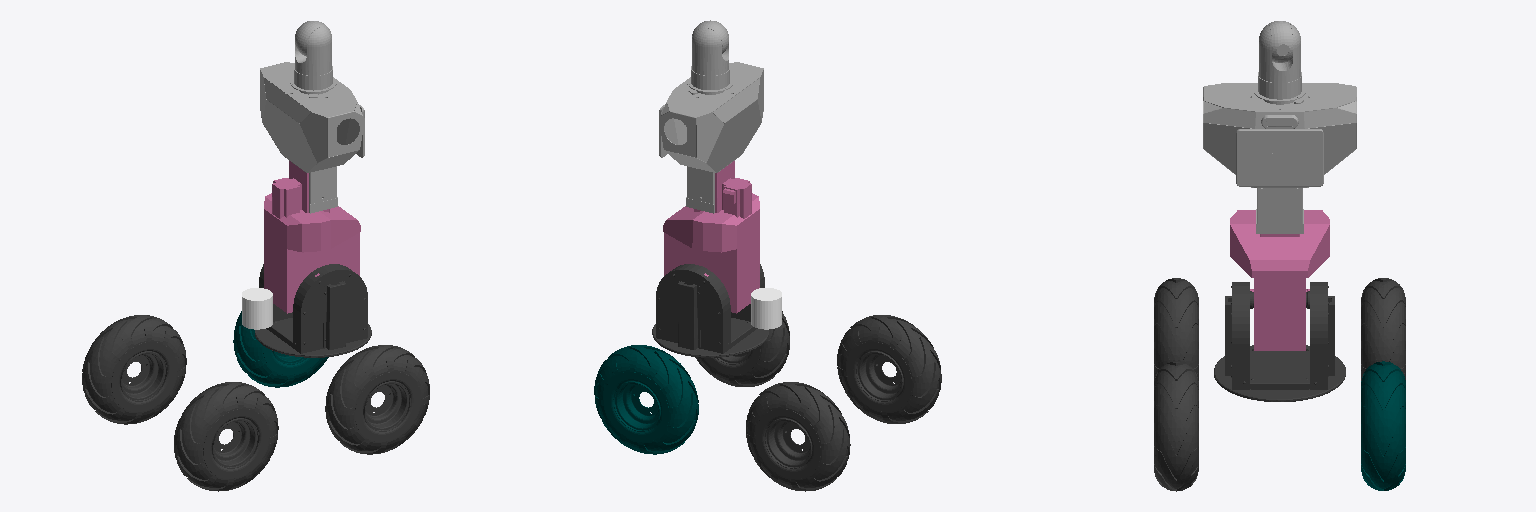
URDF robot description (bulldog_description):
<?xml version="1.0" encoding="utf-8"?>
<!-- This URDF was automatically created by SolidWorks to URDF Exporter! Originally created by [author] ([email redacted]) 
     Commit Version: 1.5.1-0-g916b5db  Build Version: 1.5.7152.31018
     For more information, please see http://wiki.ros.org/sw_urdf_exporter -->
<robot
  name="bulldog_description">
  <link
    name="base_link">
    <inertial>
      <origin
        xyz="-0.00018126 -0.00018572 0.11856"
        rpy="0 0 0" />
      <mass
        value="39.249" />
      <inertia
        ixx="1.6406"
        ixy="-0.0037148"
        ixz="-0.0086134"
        iyy="2.5997"
        iyz="0.0010712"
        izz="3.4136" />
    </inertial>
    <visual>
      <origin
        xyz="0 0 0"
        rpy="0 0 0" />
      <geometry>
        <mesh
          filename="package://bulldog_description/meshes/base_link.STL" />
      </geometry>
      <material
        name="">
        <color
          rgba="0 0 0 1" />
      </material>
    </visual>
    <collision>
      <origin
        xyz="0 0 0"
        rpy="0 0 0" />
      <geometry>
        <mesh
          filename="package://bulldog_description/meshes/base_link.STL" />
      </geometry>
    </collision>
  </link>
  <link
    name="wheel_link1">
    <inertial>
      <origin
        xyz="2.0959E-10 -1.1018E-07 1.4719E-10"
        rpy="0 0 0" />
      <mass
        value="10.51" />
      <inertia
        ixx="0.0988"
        ixy="9.934E-11"
        ixz="-1.5334E-10"
        iyy="0.17606"
        iyz="7.4803E-11"
        izz="0.0988" />
    </inertial>
    <visual>
      <origin
        xyz="0 0 0"
        rpy="0 0 0" />
      <geometry>
        <mesh
          filename="package://bulldog_description/meshes/wheel_link1.STL" />
      </geometry>
      <material
        name="">
        <color
          rgba="0 0.29804 0.29804 1" />
      </material>
    </visual>
    <collision>
      <origin
        xyz="0 0 0"
        rpy="0 0 0" />
      <geometry>
        <mesh
          filename="package://bulldog_description/meshes/wheel_link1.STL" />
      </geometry>
    </collision>
  </link>
  <joint
    name="wheel_joint1"
    type="continuous">
    <origin
      xyz="0.2775 0.2905 0.048"
      rpy="0 0 -3.1416" />
    <parent
      link="base_link" />
    <child
      link="wheel_link1" />
    <axis
      xyz="0 -1 0" />
  </joint>
  <link
    name="wheel_link2">
    <inertial>
      <origin
        xyz="2.6641E-11 -9.3596E-08 -2.5472E-10"
        rpy="0 0 0" />
      <mass
        value="10.51" />
      <inertia
        ixx="0.0988"
        ixy="1.7028E-11"
        ixz="2.9866E-11"
        iyy="0.17607"
        iyz="-1.2318E-10"
        izz="0.0988" />
    </inertial>
    <visual>
      <origin
        xyz="0 0 0"
        rpy="0 0 0" />
      <geometry>
        <mesh
          filename="package://bulldog_description/meshes/wheel_link2.STL" />
      </geometry>
      <material
        name="">
        <color
          rgba="0.29804 0.29804 0.29804 1" />
      </material>
    </visual>
    <collision>
      <origin
        xyz="0 0 0"
        rpy="0 0 0" />
      <geometry>
        <mesh
          filename="package://bulldog_description/meshes/wheel_link2.STL" />
      </geometry>
    </collision>
  </link>
  <joint
    name="wheel_joint2"
    type="continuous">
    <origin
      xyz="-0.2775 0.2905 0.048"
      rpy="0 0 3.1416" />
    <parent
      link="base_link" />
    <child
      link="wheel_link2" />
    <axis
      xyz="0 -1 0" />
  </joint>
  <link
    name="wheel_link3">
    <inertial>
      <origin
        xyz="2.6641E-11 -9.3596E-08 -2.5472E-10"
        rpy="0 0 0" />
      <mass
        value="10.51" />
      <inertia
        ixx="0.0988"
        ixy="1.7028E-11"
        ixz="2.9866E-11"
        iyy="0.17607"
        iyz="-1.2318E-10"
        izz="0.0988" />
    </inertial>
    <visual>
      <origin
        xyz="0 0 0"
        rpy="0 0 0" />
      <geometry>
        <mesh
          filename="package://bulldog_description/meshes/wheel_link3.STL" />
      </geometry>
      <material
        name="">
        <color
          rgba="0.29804 0.29804 0.29804 1" />
      </material>
    </visual>
    <collision>
      <origin
        xyz="0 0 0"
        rpy="0 0 0" />
      <geometry>
        <mesh
          filename="package://bulldog_description/meshes/wheel_link3.STL" />
      </geometry>
    </collision>
  </link>
  <joint
    name="wheel_joint3"
    type="continuous">
    <origin
      xyz="-0.27649 -0.2905 0.048"
      rpy="0 0 3.1416" />
    <parent
      link="base_link" />
    <child
      link="wheel_link3" />
    <axis
      xyz="0 -1 0" />
  </joint>
  <link
    name="wheel_link4">
    <inertial>
      <origin
        xyz="1.5643E-11 -1.1018E-07 -2.5563E-10"
        rpy="0 0 0" />
      <mass
        value="10.51" />
      <inertia
        ixx="0.0988"
        ixy="1.1706E-11"
        ixz="1.5821E-11"
        iyy="0.17606"
        iyz="-1.238E-10"
        izz="0.0988" />
    </inertial>
    <visual>
      <origin
        xyz="0 0 0"
        rpy="0 0 0" />
      <geometry>
        <mesh
          filename="package://bulldog_description/meshes/wheel_link4.STL" />
      </geometry>
      <material
        name="">
        <color
          rgba="0.29804 0.29804 0.29804 1" />
      </material>
    </visual>
    <collision>
      <origin
        xyz="0 0 0"
        rpy="0 0 0" />
      <geometry>
        <mesh
          filename="package://bulldog_description/meshes/wheel_link4.STL" />
      </geometry>
    </collision>
  </link>
  <joint
    name="wheel_joint4"
    type="continuous">
    <origin
      xyz="0.27851 -0.2905 0.048"
      rpy="0 0 3.1416" />
    <parent
      link="base_link" />
    <child
      link="wheel_link4" />
    <axis
      xyz="0 -1 0" />
  </joint>
  <link name="motor1_link">
    <inertial>
      <origin
        xyz="0 0 0"
        rpy="3.14159 0 1.571" />
      <mass
        value="10.51" />
      <inertia
        ixx="0.0988"
        ixy="1.1706E-11"
        ixz="1.5821E-11"
        iyy="0.17606"
        iyz="-1.238E-10"
        izz="0.0988" />
    </inertial>
	<visual>
    	<origin xyz="0 0 0" rpy="3.15 0 1.57" />
    	<geometry>
      		<mesh filename="package://bulldog_description/meshes/motor1_link.stl" />
    	</geometry>
    	<material
        	name="grey">
        	<color
          		rgba="0.29804 0.29804 0.29804 1" />
    	</material>
  	</visual>
  </link>
  <joint name="motor1_joint" type="revolute">
    <origin xyz="0.21 0 0.188" rpy="0 0 0" />
    <parent link="base_link" />
    <child link="motor1_link" />
    <axis xyz="0 0 1" rpy="0 0 0" />
    <limit lower="-3.14" upper="3.14" effort="100" velocity="0.5"/>
  </joint>
  <gazebo reference="motor1_link" />

  <link name="motor2_link">
    <inertial>
      <origin
        xyz="-0.016 0 -0.212"
        rpy="3.14 0 1.57" />
      <mass
        value="1" />
      <inertia
        ixx="0.0988"
        ixy="1.1706E-11"
        ixz="1.5821E-11"
        iyy="0.17606"
        iyz="-1.238E-10"
        izz="0.0988" />
    </inertial>
    <visual>
    	<origin xyz="-0.016 0 -0.212" rpy="3.14 0 1.57" />
    	<geometry>
      		<mesh filename="package://bulldog_description/meshes/motor2_link.stl" />
    	</geometry>
  	</visual>
  </link> 
  <joint name="motor2_joint" type="revolute">
    <origin xyz="0 0 0.212" rpy="0 0 0" />
    <parent link="motor1_link" />
    <child link="motor2_link" />
    <axis xyz="0 1 0" rpy="0 0 0" />
    <limit lower="-2.0" upper="2.0" effort="100" velocity="0.5"/>
  </joint>
  <gazebo reference="motor2_link" />

  <link name="motor3_link">
    <inertial>
      <origin
        xyz="0 0 -0.4485"
        rpy="3.14 0 1.57" />
      <mass
        value="1" />
      <inertia
        ixx="0.0988"
        ixy="1.1706E-11"
        ixz="1.5821E-11"
        iyy="0.17606"
        iyz="-1.238E-10"
        izz="0.0988" />
    </inertial>
    <visual>
    	<origin xyz="0 0 -0.4485" rpy="3.14 0 1.57" />
    	<geometry>
      		<mesh filename="package://bulldog_description/meshes/motor3_link.stl" />
    	</geometry>
  	</visual>
  </link>
  <joint name="motor3_joint" type="prismatic">
    <origin xyz="0 0 0.2365" rpy="0 0 0" />
    <parent link="motor2_link" />
    <child link="motor3_link" />
    <axis xyz="0 0 1" rpy="0 0 0" />
    <limit lower="-0.1" upper="0.3" effort="100" velocity="0.5"/>
  </joint>
  <gazebo reference="motor3_link" />
  <link
    name="sensor_link">
    <inertial>
      <origin
        xyz="-5.2042E-18 -1.5864E-19 -0.05"
        rpy="0 0 0" />
      <mass
        value="0.7854" />
      <inertia
        ixx="0.0011454"
        ixy="-3.1058E-20"
        ixz="-1.6988E-20"
        iyy="0.0011454"
        iyz="4.3923E-37"
        izz="0.00098175" />
    </inertial>
    <visual>
      <origin
        xyz="0 0 0"
        rpy="0 0 0" />
      <geometry>
        <mesh
          filename="package://bulldog_description/meshes/sensor_link.STL" />
      </geometry>
      <material
        name="">
        <color
          rgba="1 1 1 1" />
      </material>
    </visual>
    <collision>
      <origin
        xyz="0 0 0"
        rpy="0 0 0" />
      <geometry>
        <mesh
          filename="package://bulldog_description/meshes/sensor_link.STL" />
      </geometry>
    </collision>
  </link>
  <joint
    name="sensor_joint"
    type="fixed">
    <origin
      xyz="0.0050533 0 0.363"
      rpy="0 0 0" />
    <parent
      link="base_link" />
    <child
      link="sensor_link" />
    <axis
      xyz="0 0 0" />
  </joint>
  <gazebo reference="sensor_link">
      <sensor type="ray" name="head_hokuyo_sensor">
        <pose>0 0 0 0 0 0</pose>
        <visualize>false</visualize>
        <update_rate>40</update_rate>
        <ray>
          <scan>
            <horizontal>
              <samples>720</samples>
              <resolution>1</resolution>
              <min_angle>-1.570796</min_angle>
              <max_angle>1.570796</max_angle>
            </horizontal>
          </scan>
          <range>
            <min>0.10</min>
            <max>30.0</max>
            <resolution>0.01</resolution>
          </range>
          <noise>
            <type>gaussian</type>
            <mean>0.0</mean>
            <stddev>0.01</stddev>
          </noise>
        </ray>
        <plugin name="gazebo_ros_head_hokuyo_controller" filename="libgazebo_ros_laser.so">
          <topicName>scan</topicName>
          <frameName>base_link</frameName>
        </plugin>
      </sensor>
    </gazebo>
  <gazebo>
    <plugin name="skid_steer_drive_controller" filename="libgazebo_ros_skid_steer_drive.so">
      <alwaysOn>true</alwaysOn>
      <updateRate>5</updateRate>
      <leftFrontJoint>wheel_joint1</leftFrontJoint>
      <rightFrontJoint>wheel_joint4</rightFrontJoint>
     <leftRearJoint>wheel_joint2</leftRearJoint>
      <rightRearJoint>wheel_joint3</rightRearJoint> 
      <wheelSeparation>0.555</wheelSeparation> 
      <wheelDiameter>0.365</wheelDiameter>
      <torque>100</torque>
      <commandTopic>cmd_vel</commandTopic>
      <odometryTopic>odom</odometryTopic>
      <odometryFrame>odom</odometryFrame>
      <robotBaseFrame>base_link</robotBaseFrame>
      <broadcastTF>1</broadcastTF>
    </plugin>
  </gazebo>
</robot>

--- What the picture shows (computed from the rendered views, not written in the file) ---
3 views of the same robot in one strip: view 1: azimuth 30°, elevation 25°; view 2: azimuth 150°, elevation 25°; view 3: azimuth 270°, elevation 25° (orthographic).
Robot: bulldog_description — 9 links, 8 joints (2 revolute, 4 continuous, 1 prismatic, 1 fixed); root link base_link; default pose: all joints at 0.
Visible links, largest first — view 1: motor3_link, wheel_link2, wheel_link4, wheel_link3, motor2_link, motor1_link, wheel_link1, sensor_link; view 2: motor3_link, wheel_link3, wheel_link1, wheel_link2, motor2_link, motor1_link, wheel_link4, sensor_link; view 3: motor3_link, motor1_link, motor2_link, wheel_link4, wheel_link1, wheel_link2, wheel_link3.
Link boxes in pixels (left/top/right/bottom): motor3_link: left=260, top=21, right=364, bottom=213; wheel_link2: left=82, top=315, right=186, bottom=424; wheel_link4: left=325, top=345, right=429, bottom=454; wheel_link3: left=174, top=382, right=278, bottom=491; motor2_link: left=264, top=161, right=360, bottom=313; motor1_link: left=255, top=264, right=371, bottom=357; wheel_link1: left=233, top=311, right=328, bottom=387; sensor_link: left=242, top=288, right=272, bottom=329; motor3_link: left=659, top=20, right=763, bottom=213; wheel_link3: left=837, top=315, right=941, bottom=423; wheel_link1: left=594, top=345, right=698, bottom=454; wheel_link2: left=746, top=382, right=850, bottom=491; motor2_link: left=663, top=161, right=759, bottom=313; motor1_link: left=652, top=264, right=768, bottom=357; wheel_link4: left=695, top=311, right=789, bottom=386; sensor_link: left=751, top=288, right=781, bottom=329; motor3_link: left=1203, top=21, right=1356, bottom=233; motor1_link: left=1214, top=282, right=1345, bottom=401; motor2_link: left=1230, top=210, right=1329, bottom=350; wheel_link4: left=1154, top=362, right=1198, bottom=491; wheel_link1: left=1361, top=361, right=1405, bottom=490; wheel_link2: left=1361, top=278, right=1405, bottom=380; wheel_link3: left=1154, top=278, right=1198, bottom=380.
Bounding box of the posed robot: 0.9206 × 0.708 × 1.4 m (x, y, z).
Meshes: 9 distinct files referenced, 8 mesh visuals loaded (8 binary STL); not drawn: 1 (reference not matched to a file when rendering).
